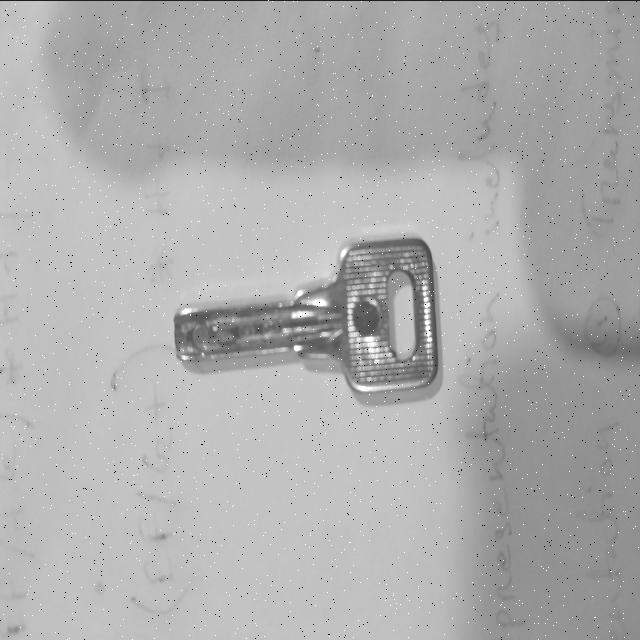key: (174, 238, 438, 391)
